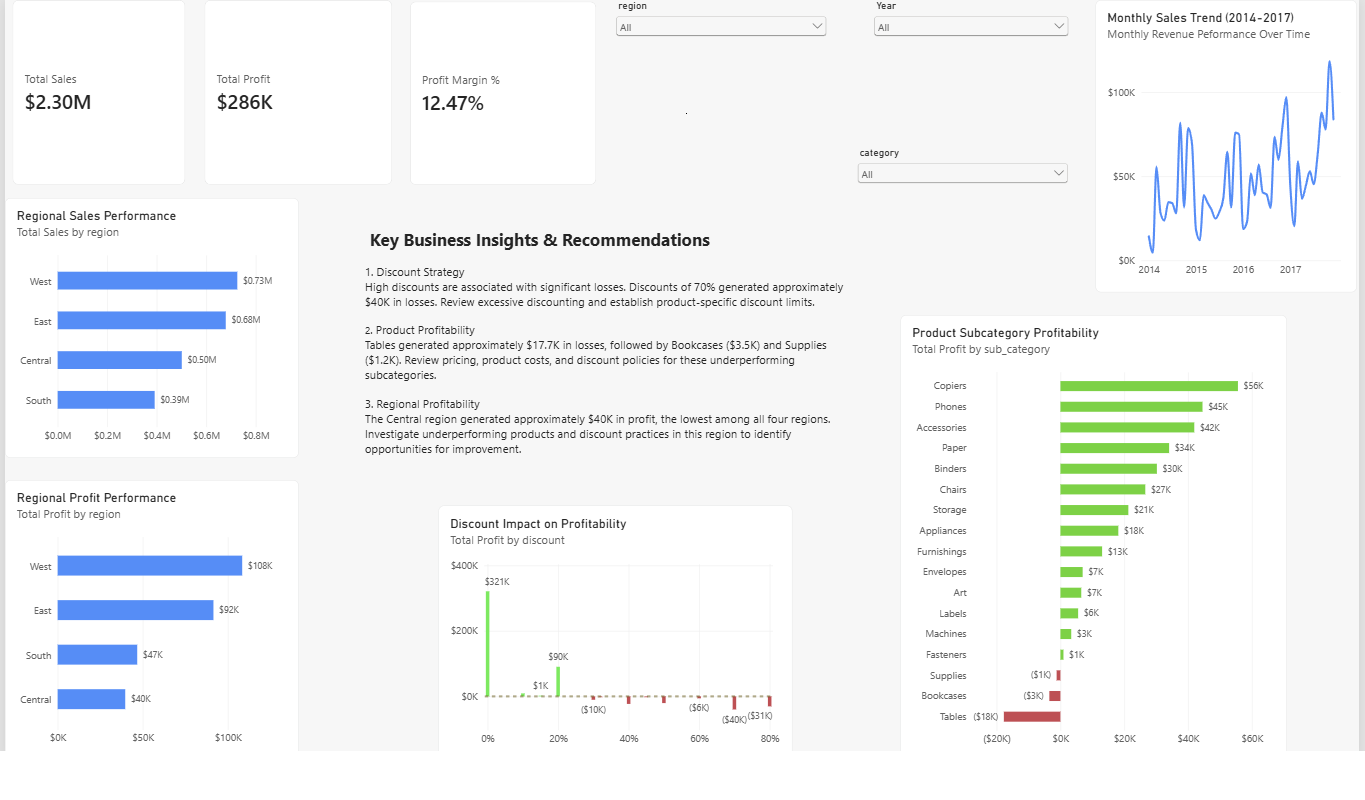

The page's visual inventory and layout, read from the dashboard file:
{"tool":"powerbi","page":{"name":"Page 1","canvas":[1920,1080],"ordinal":0},"visuals":[{"type":"cardVisual","fields":{"Data":["public retail_sales.Total Sales"]},"box":[10.4,0,245.8,262.5],"z":0},{"type":"cardVisual","fields":{"Data":["public retail_sales.Total Profit"]},"box":[283.3,0,266.7,262.5],"z":1000},{"type":"cardVisual","fields":{"Data":["public retail_sales.Profit Margin %"]},"box":[575,2.1,264.6,260.4],"z":2000},{"type":"clusteredBarChart","title":"Regional Sales Performance","fields":{"Category":["public retail_sales.region"],"Y":["public retail_sales.Total Sales"]},"box":[0,281.2,416.7,368.8],"z":3000},{"type":"clusteredBarChart","title":"Regional Profit Performance","fields":{"Category":["public retail_sales.region"],"Y":["public retail_sales.Total Profit"]},"box":[0,681.2,416.7,397.9],"z":4000},{"type":"clusteredBarChart","title":"Product Subcategory Profitability","fields":{"Category":["public retail_sales.sub_category"],"Y":["public retail_sales.Total Profit"]},"box":[1270.8,445.8,547.9,633.3],"z":5000},{"type":"slicer","fields":{"Values":["public retail_sales.region"]},"box":[862.5,0,308.3,147.9],"z":6000},{"type":"slicer","fields":{"Values":["public retail_sales.category"]},"box":[1204.2,208.3,308.3,177.1],"z":7000},{"type":"clusteredColumnChart","title":"Discount Impact on Profitability","fields":{"Category":["public retail_sales.discount"],"Y":["public retail_sales.Total Profit"]},"box":[614.6,716.7,502.1,362.5],"z":8000},{"type":"lineChart","title":"Monthly Sales Trend (2014-2017)","fields":{"Category":["public retail_sales.order_date.Variation.Date Hierarchy.Year","public retail_sales.order_date.Variation.Date Hierarchy.Quarter","public retail_sales.order_date.Variation.Date Hierarchy.Month","public retail_sales.order_date.Variation.Date Hierarchy.Day"],"Y":["public retail_sales.Total Sales"]},"box":[1545.8,0,370.8,414.6],"z":9000},{"type":"slicer","fields":{"Values":["public retail_sales.order_date.Variation.Date Hierarchy.Year"]},"box":[1227.1,0,285.4,262.5],"z":9001},{"type":"textbox","box":[510.4,322.9,702.1,358.3],"z":9002}]}

Visuals, with their boxes on the page's 1920x1080 design canvas (x1, y1, x2, y2). These are canvas units, not pixel positions in the 1365x800 screenshot, which may show the page scaled, cropped or inside an application window:
cardVisual - public retail_sales.Total Sales: Rect(10, 0, 256, 262)
cardVisual - public retail_sales.Total Profit: Rect(283, 0, 550, 262)
cardVisual - public retail_sales.Profit Margin %: Rect(575, 2, 840, 262)
"Regional Sales Performance" clusteredBarChart: Rect(0, 281, 417, 650)
"Regional Profit Performance" clusteredBarChart: Rect(0, 681, 417, 1079)
"Product Subcategory Profitability" clusteredBarChart: Rect(1271, 446, 1819, 1079)
slicer - public retail_sales.region: Rect(862, 0, 1171, 148)
slicer - public retail_sales.category: Rect(1204, 208, 1512, 385)
"Discount Impact on Profitability" clusteredColumnChart: Rect(615, 717, 1117, 1079)
"Monthly Sales Trend (2014-2017)" lineChart: Rect(1546, 0, 1917, 415)
slicer - public retail_sales.order_date.Variation.Date Hierarchy.Year: Rect(1227, 0, 1512, 262)
textbox: Rect(510, 323, 1212, 681)
